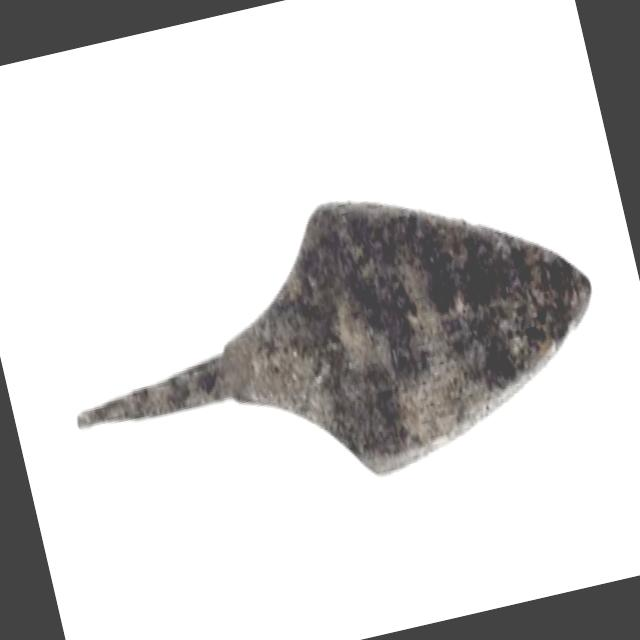spear: (17, 99, 640, 593)
